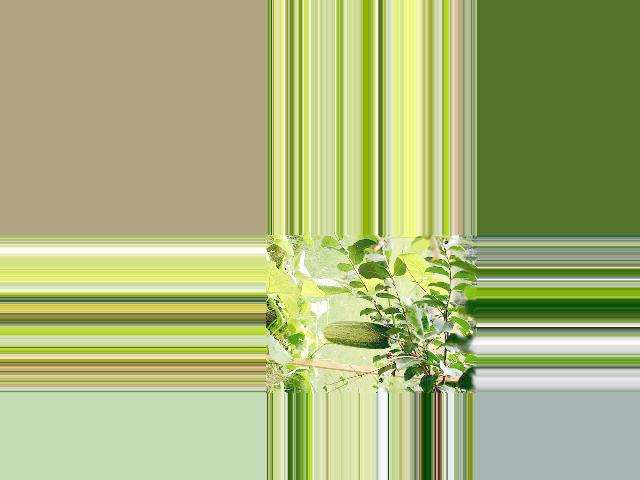cucumber: (323, 321, 398, 350)
